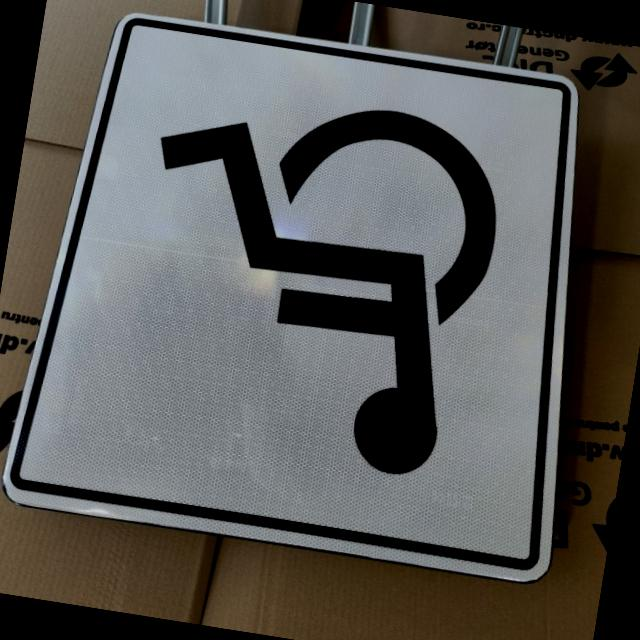symbol_of_access: (0, 0, 624, 588)
